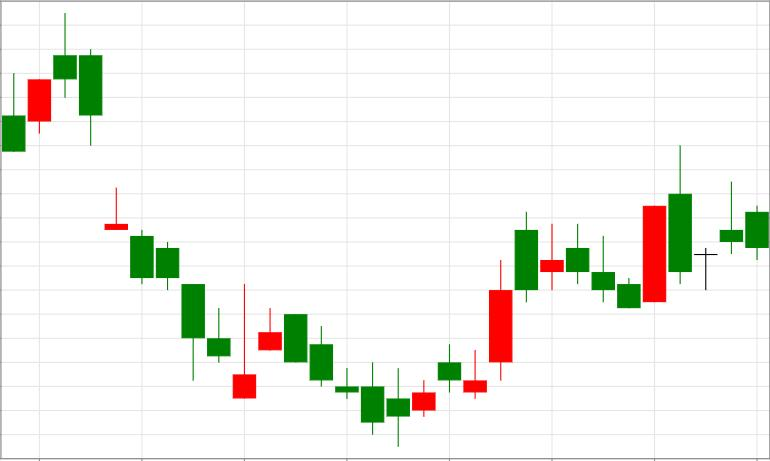inverse_hammer_rise: (131, 229, 256, 399)
